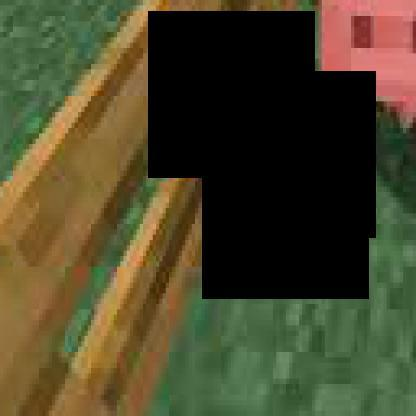minecraft-pigs: (305, 0, 413, 214)
